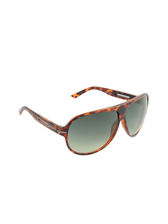glasses: (18, 84, 151, 157)
